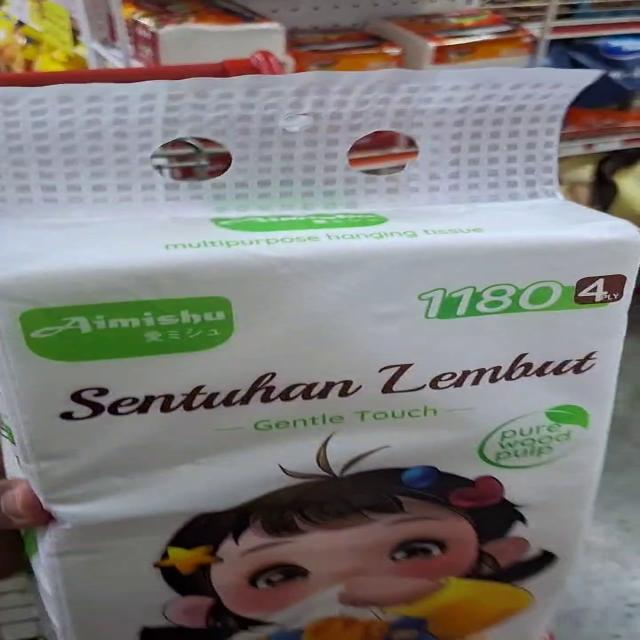Tisu: (0, 314, 618, 640), (0, 84, 640, 390)
